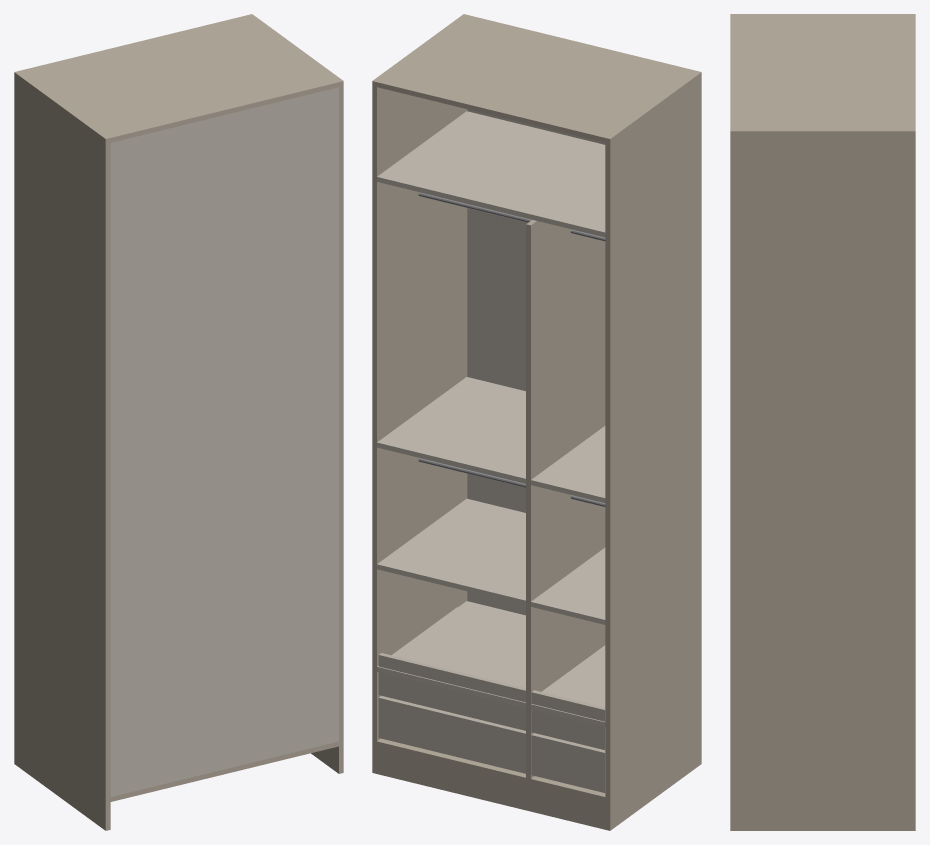
The picture shows the model from 3 angles, left to right: view 1: azimuth 30°, elevation 25°; view 2: azimuth 150°, elevation 25°; view 3: azimuth 270°, elevation 25°; orthographic projection.
Visible parts, largest first — view 1: 004_ARKALIK, 000_GOVDE_SOL, 002_GOVDE_UST, 001_GOVDE_SAG, 003_GOVDE_ALT; view 2: 000_GOVDE_SOL, 001_GOVDE_SAG, 006_IC_DIKME, 002_GOVDE_UST, 010_RAF_4, 008_RAF_2, 009_RAF_3, 004_ARKALIK, 011_CEKMECE_ON_1, 014_CEKMECE_KUTU_2, 013_CEKMECE_ON_2, 005_BAZA (+4 smaller); view 3: 001_GOVDE_SAG, 002_GOVDE_UST, 000_GOVDE_SOL.
Boxes of the visible parts, x1,y1,x2,y2 form: 004_ARKALIK: [110, 87, 338, 796]; 000_GOVDE_SOL: [14, 71, 110, 830]; 002_GOVDE_UST: [19, 15, 338, 142]; 001_GOVDE_SAG: [247, 14, 343, 773]; 003_GOVDE_ALT: [110, 741, 338, 801]; 000_GOVDE_SOL: [605, 71, 701, 830]; 001_GOVDE_SAG: [372, 14, 468, 773]; 006_IC_DIKME: [526, 220, 605, 778]; 002_GOVDE_UST: [377, 15, 696, 142]; 010_RAF_4: [377, 111, 605, 237]; 008_RAF_2: [377, 498, 605, 624]; 009_RAF_3: [377, 377, 605, 502]; 004_ARKALIK: [467, 109, 605, 615]; 011_CEKMECE_ON_1: [378, 696, 605, 792]; 014_CEKMECE_KUTU_2: [392, 607, 605, 707]; 013_CEKMECE_ON_2: [378, 653, 605, 749]; 005_BAZA: [377, 746, 605, 829]; 001_GOVDE_SAG: [730, 129, 915, 830]; 002_GOVDE_UST: [730, 16, 915, 128]; 000_GOVDE_SOL: [730, 14, 915, 16].
Bounding box in the file's own units: 0.9 × 2.5 × 0.6.
